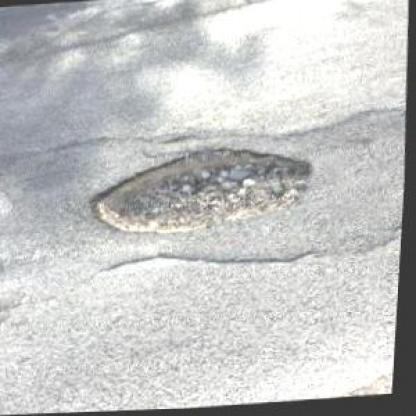pothole: (84, 139, 320, 240)
